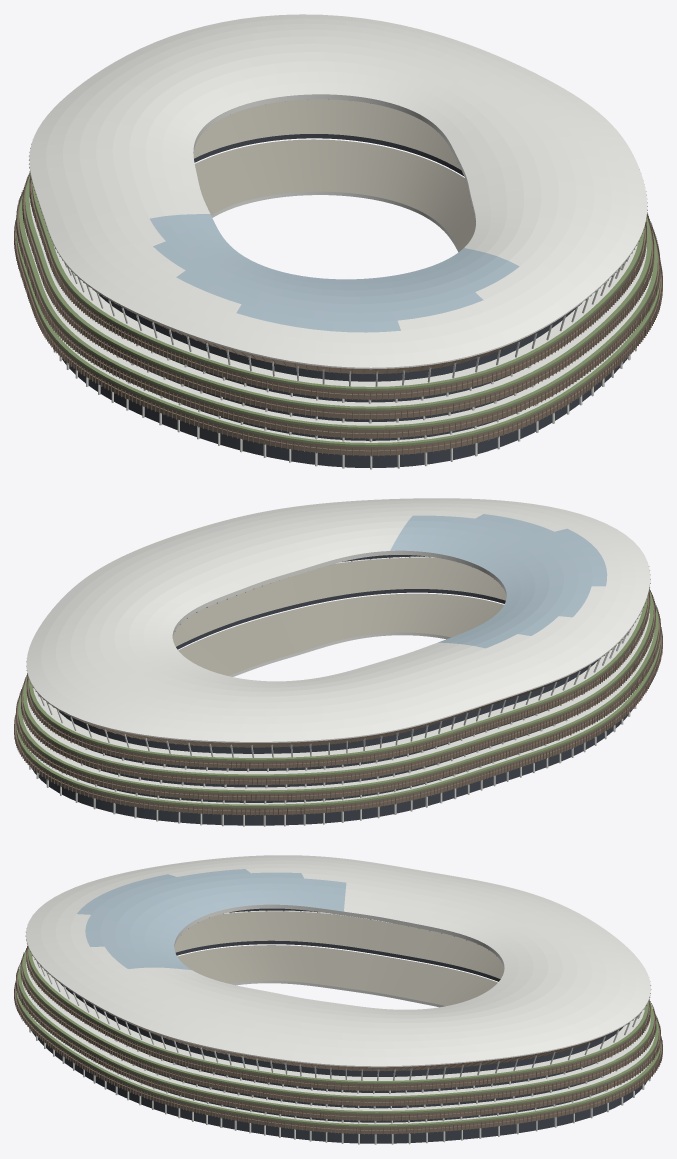
Rendered from tokyo-national-stadium.detail.glb.
3 views of the same model, one above another, from view 1: azimuth 30°, elevation 25°; view 2: azimuth 150°, elevation 25°; view 3: azimuth 270°, elevation 25° (orthographic). The views are drawn at different scales.
Parts seen in each view (by area): view 1: Japan National Stadium; view 2: Japan National Stadium; view 3: Japan National Stadium.
Boxes of the visible parts, <box> form: Japan National Stadium: <box>14,14,662,469</box>; Japan National Stadium: <box>14,498,662,826</box>; Japan National Stadium: <box>14,855,662,1144</box>.
Bounding box in the file's own units: 274 × 50.44 × 340.
